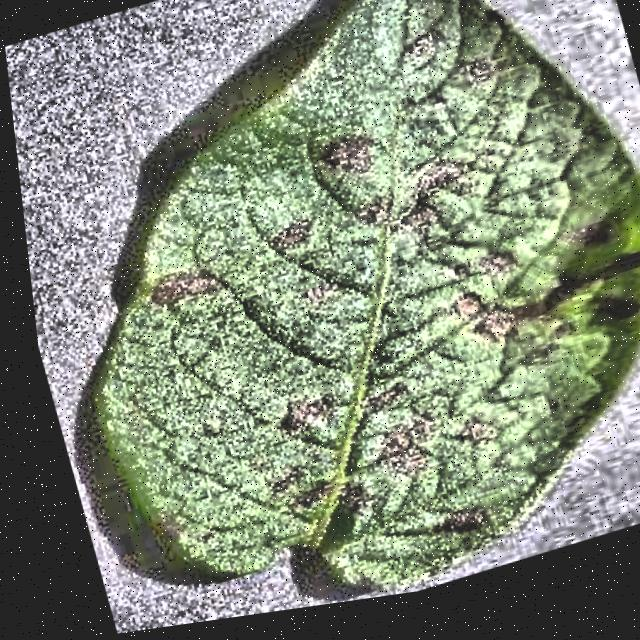Potato_leaf_early_blight: (100, 0, 640, 583)
